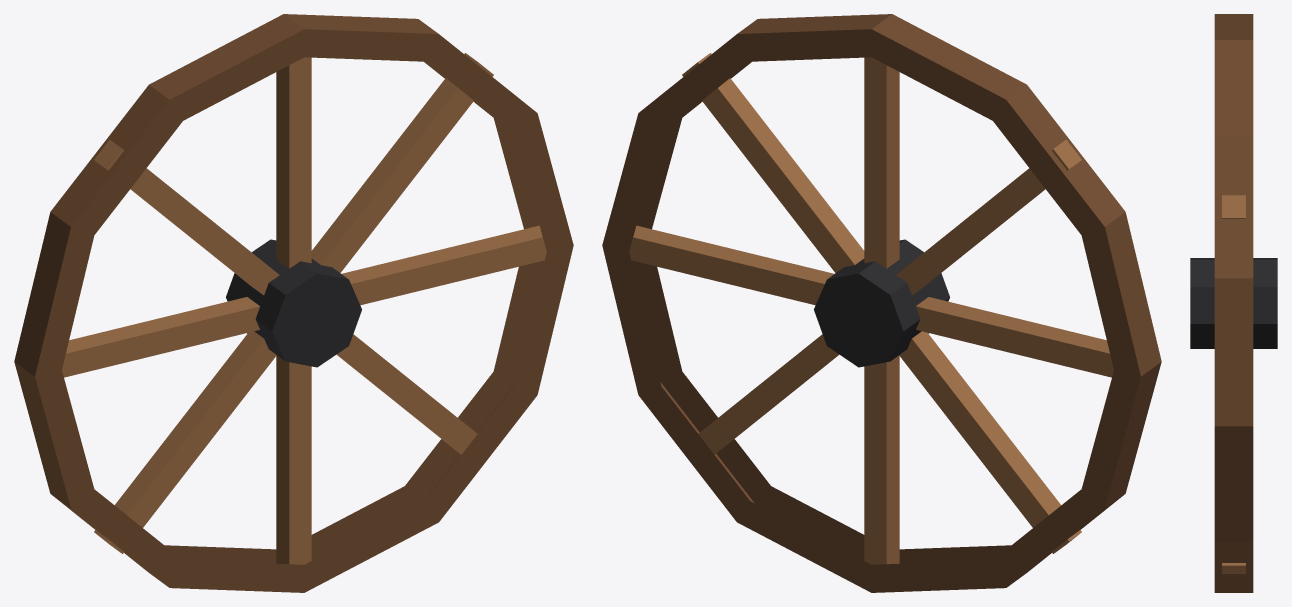
The model's file is SM_WagonWheel.fbx.
The picture shows the model from 3 angles, left to right: view 1: azimuth 30°, elevation 25°; view 2: azimuth 150°, elevation 25°; view 3: azimuth 270°, elevation 25°; orthographic projection. The views are drawn at different scales.
Parts seen in each view (by area): view 1: WagonWheel; view 2: WagonWheel; view 3: WagonWheel.
Boxes of the visible parts, x1,y1,x2,y2 form: WagonWheel: [14, 14, 573, 592]; WagonWheel: [602, 14, 1161, 592]; WagonWheel: [1190, 14, 1277, 592].
Size of the model in its own units: 120 by 18 by 120.
